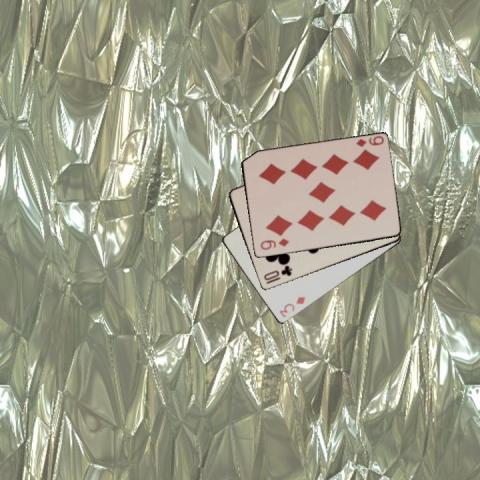10c: (261, 263, 293, 285)
3d: (276, 294, 307, 319)
9d: (257, 236, 290, 252), (352, 133, 384, 148)
